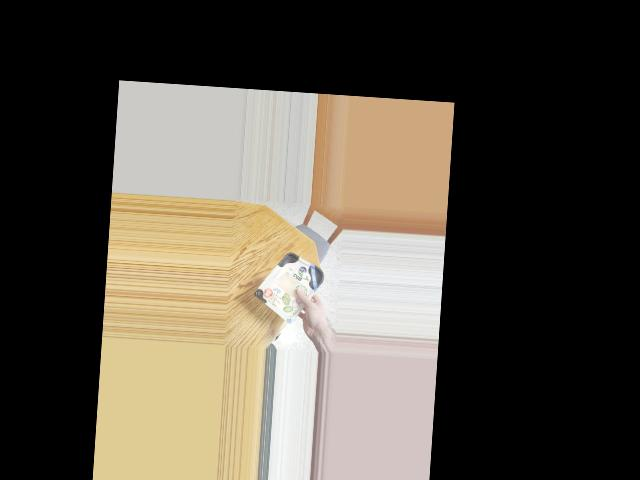cheese: (257, 253, 329, 314)
